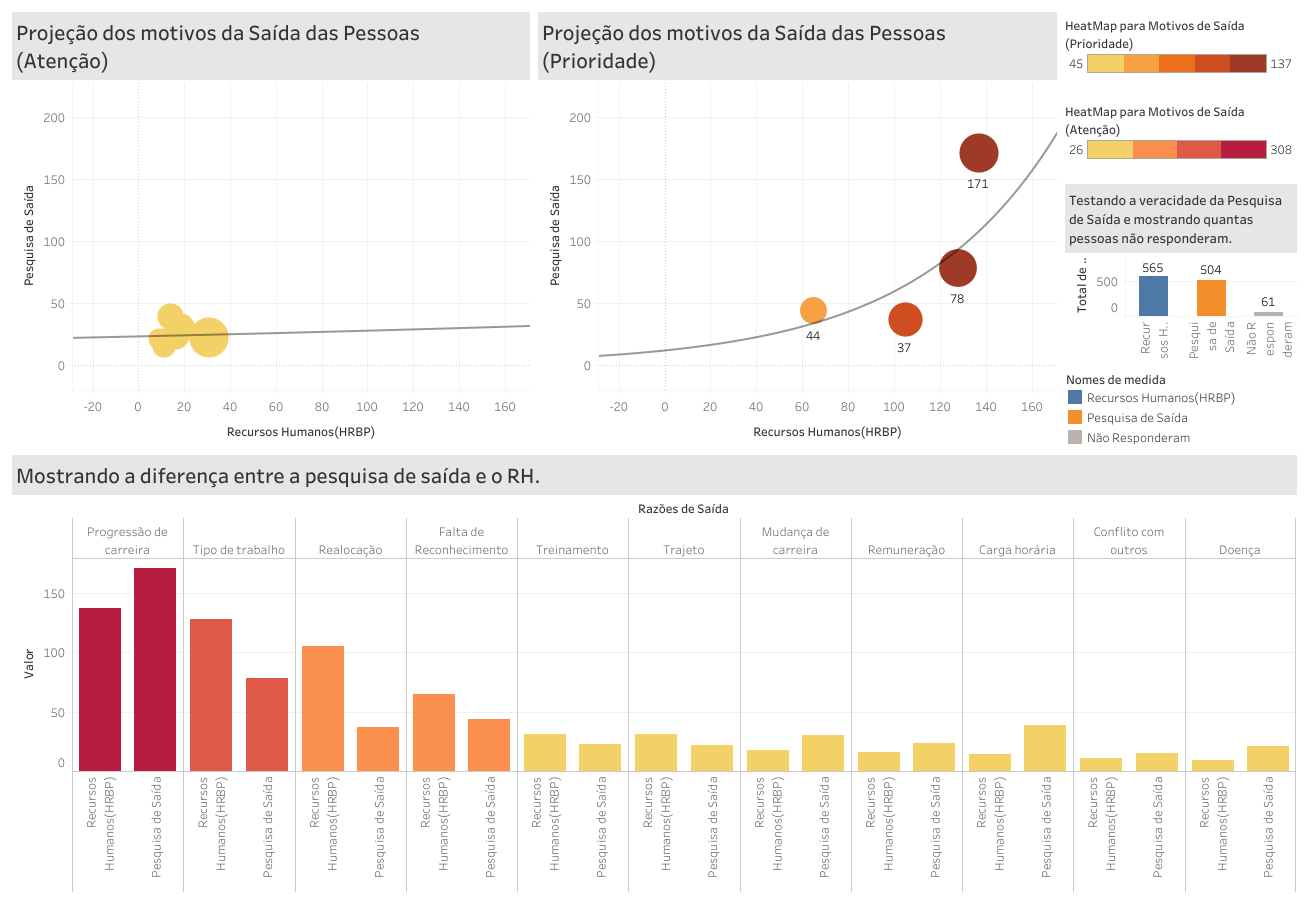

Layout of this report page (visuals, bound fields, positions):
{"tool":"tableau","page":{"name":"Painel 3","canvas":[1309,904],"ordinal":1},"visuals":[{"type":"worksheet","title":"Grafico 1 (2)","mark":"Automatic","rows":["Pesquisa de Saída"],"cols":["Recursos Humanos(HRBP)"],"box":[8,8,497.7,442.8]},{"type":"worksheet","title":"Grafico 1","mark":"Automatic","rows":["Pesquisa de Saída"],"cols":["Recursos Humanos(HRBP)"],"box":[505.7,8,497.7,442.8]},{"type":"legend","title":"Grafico 1","param":"[federated.13hti5l0au8g3r18qakzt0soij25].[sum:Recursos Humanos(HRBP):qk]","box":[1003.4,8,297.6,86]},{"type":"legend","title":"Grafico 3","param":"[federated.13hti5l0au8g3r18qakzt0soij25].[usr:Calculation_1073827099339800576:qk","box":[1003.4,94,297.6,86]},{"type":"worksheet","title":"Grafico 3","mark":"Automatic","cols":["Razões de Saída"],"box":[8,450.8,1293,445.2]}]}

Visuals, with their boxes in screenshot pixels (x1, y1, x2, y2), scaled from the page's 1309x904 canvas onto the 1308x903 screenshot:
"Grafico 1 (2)" worksheet: [left=8, top=8, right=505, bottom=450]
"Grafico 1" worksheet: [left=505, top=8, right=1003, bottom=450]
"Grafico 1" legend: [left=1003, top=8, right=1300, bottom=94]
"Grafico 3" legend: [left=1003, top=94, right=1300, bottom=180]
"Grafico 3" worksheet: [left=8, top=450, right=1300, bottom=895]
